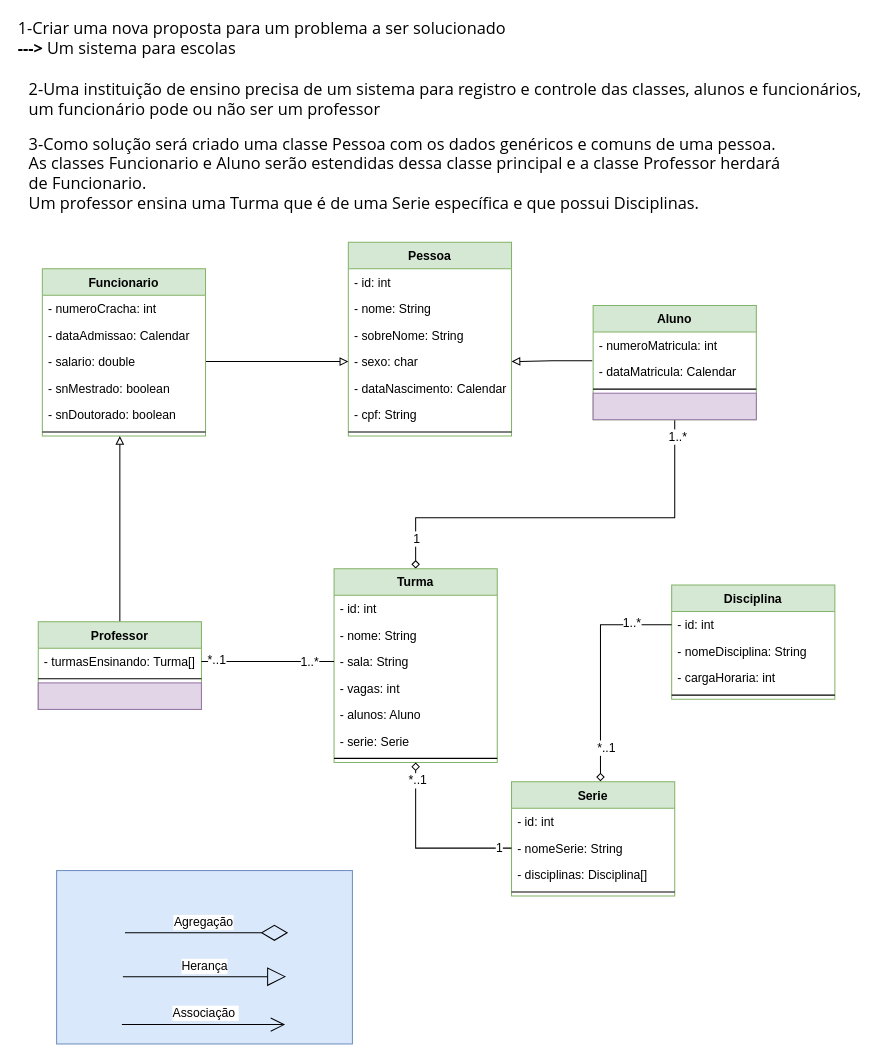
The diagram is 878 pixels wide and 1062 high, and some of its shapes have lost their labels. Each missing label, with the centre of its shape:
+ ensinarTurma(): void: [119,695]
+ estudar(): void: [674,406]
Legenda: [204,957]
